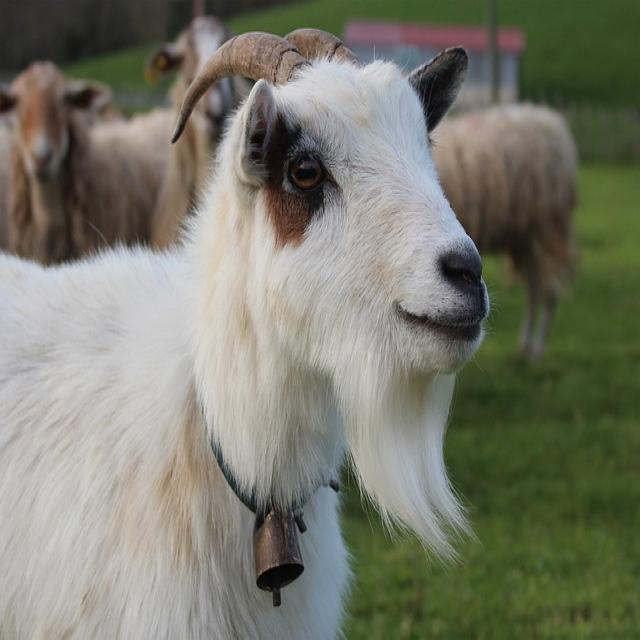sheep: (0, 26, 490, 639), (164, 26, 580, 366), (0, 14, 246, 267), (429, 100, 580, 366)
